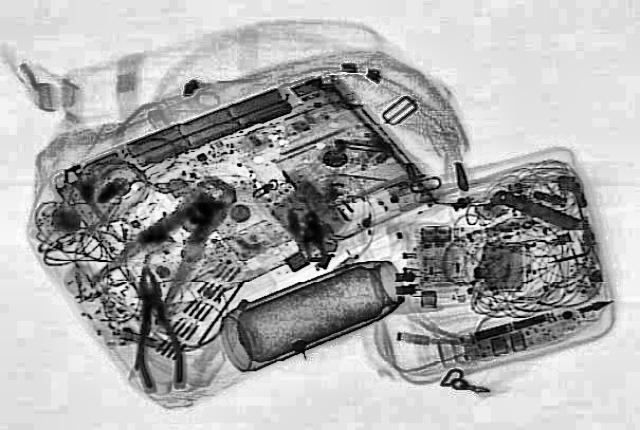Pliers: (78, 166, 264, 316), (120, 268, 186, 389)
